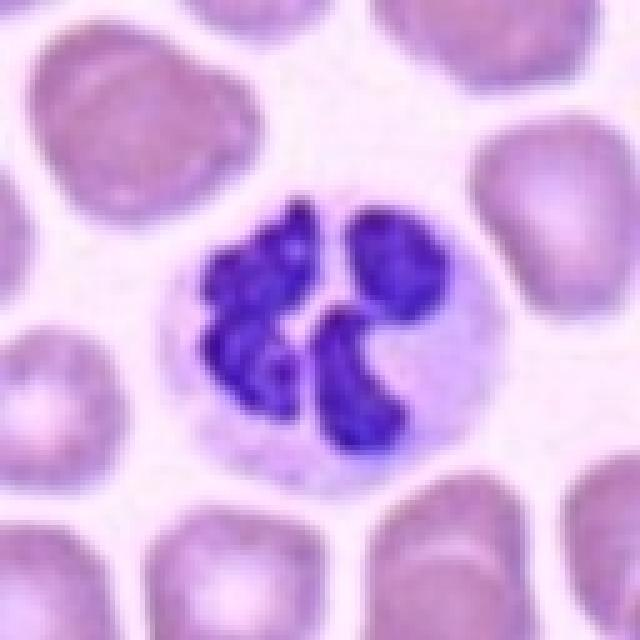neutro: (105, 136, 531, 527)
